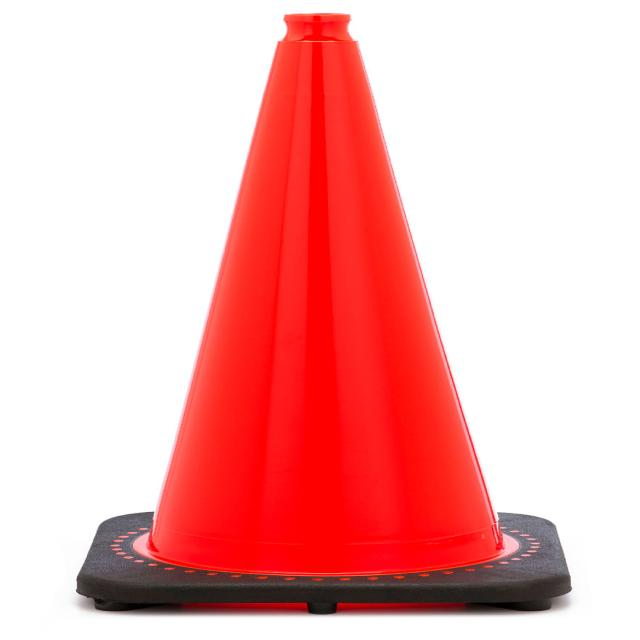traffic cone: (59, 9, 596, 626)
